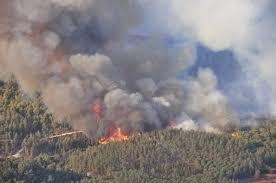fire: (95, 125, 132, 144), (228, 127, 243, 138)
